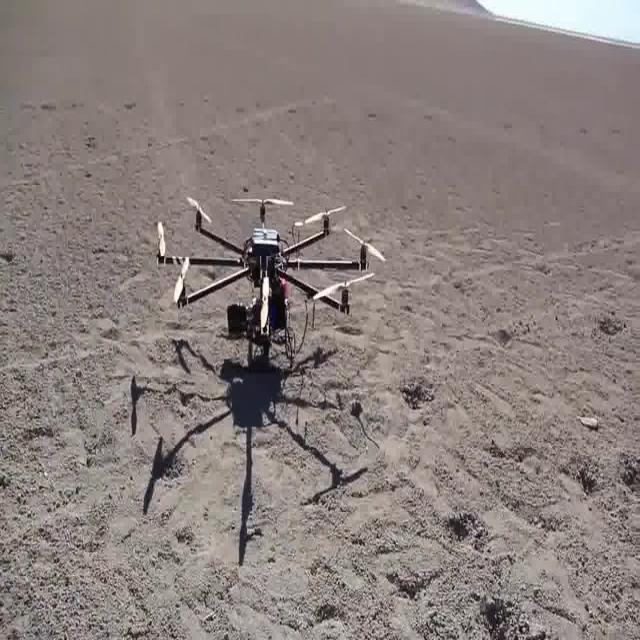drone: (144, 179, 389, 415)
